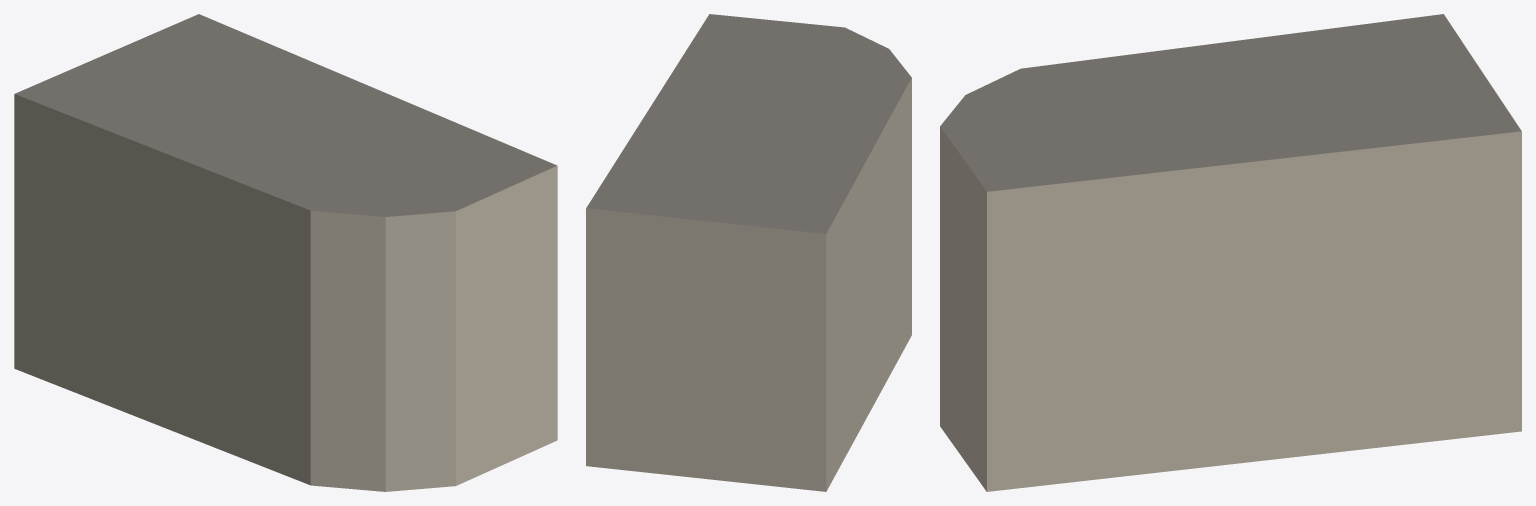
The picture shows the model from 3 angles, left to right: view 1: azimuth 30°, elevation 25°; view 2: azimuth 150°, elevation 25°; view 3: azimuth 270°, elevation 25°; orthographic projection. The views are drawn at different scales.
Parts seen in each view (by area): view 1: HP-w1197612260; view 2: HP-w1197612260; view 3: HP-w1197612260.
Part boxes in pixels (bbox=[...]): HP-w1197612260: bbox=[14, 14, 557, 491]; HP-w1197612260: bbox=[586, 14, 911, 491]; HP-w1197612260: bbox=[940, 14, 1521, 491].
Size of the model in its own units: 22.88 by 18 by 31.62.
